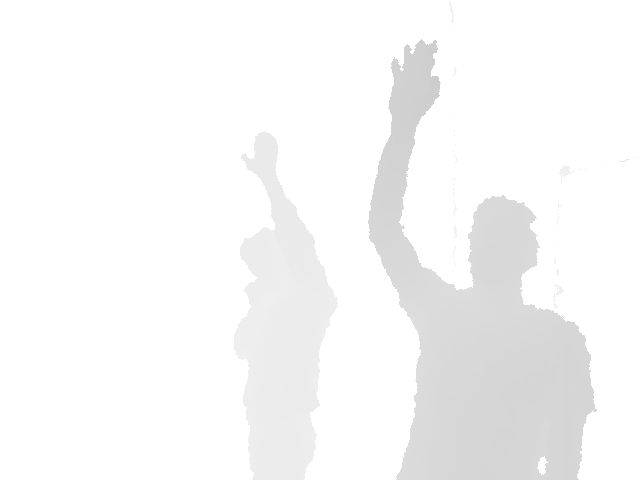hand: (387, 38, 440, 127), (240, 132, 278, 179)
head: (469, 195, 540, 306), (240, 227, 297, 287)
personw: (367, 37, 598, 480), (231, 132, 340, 480)
